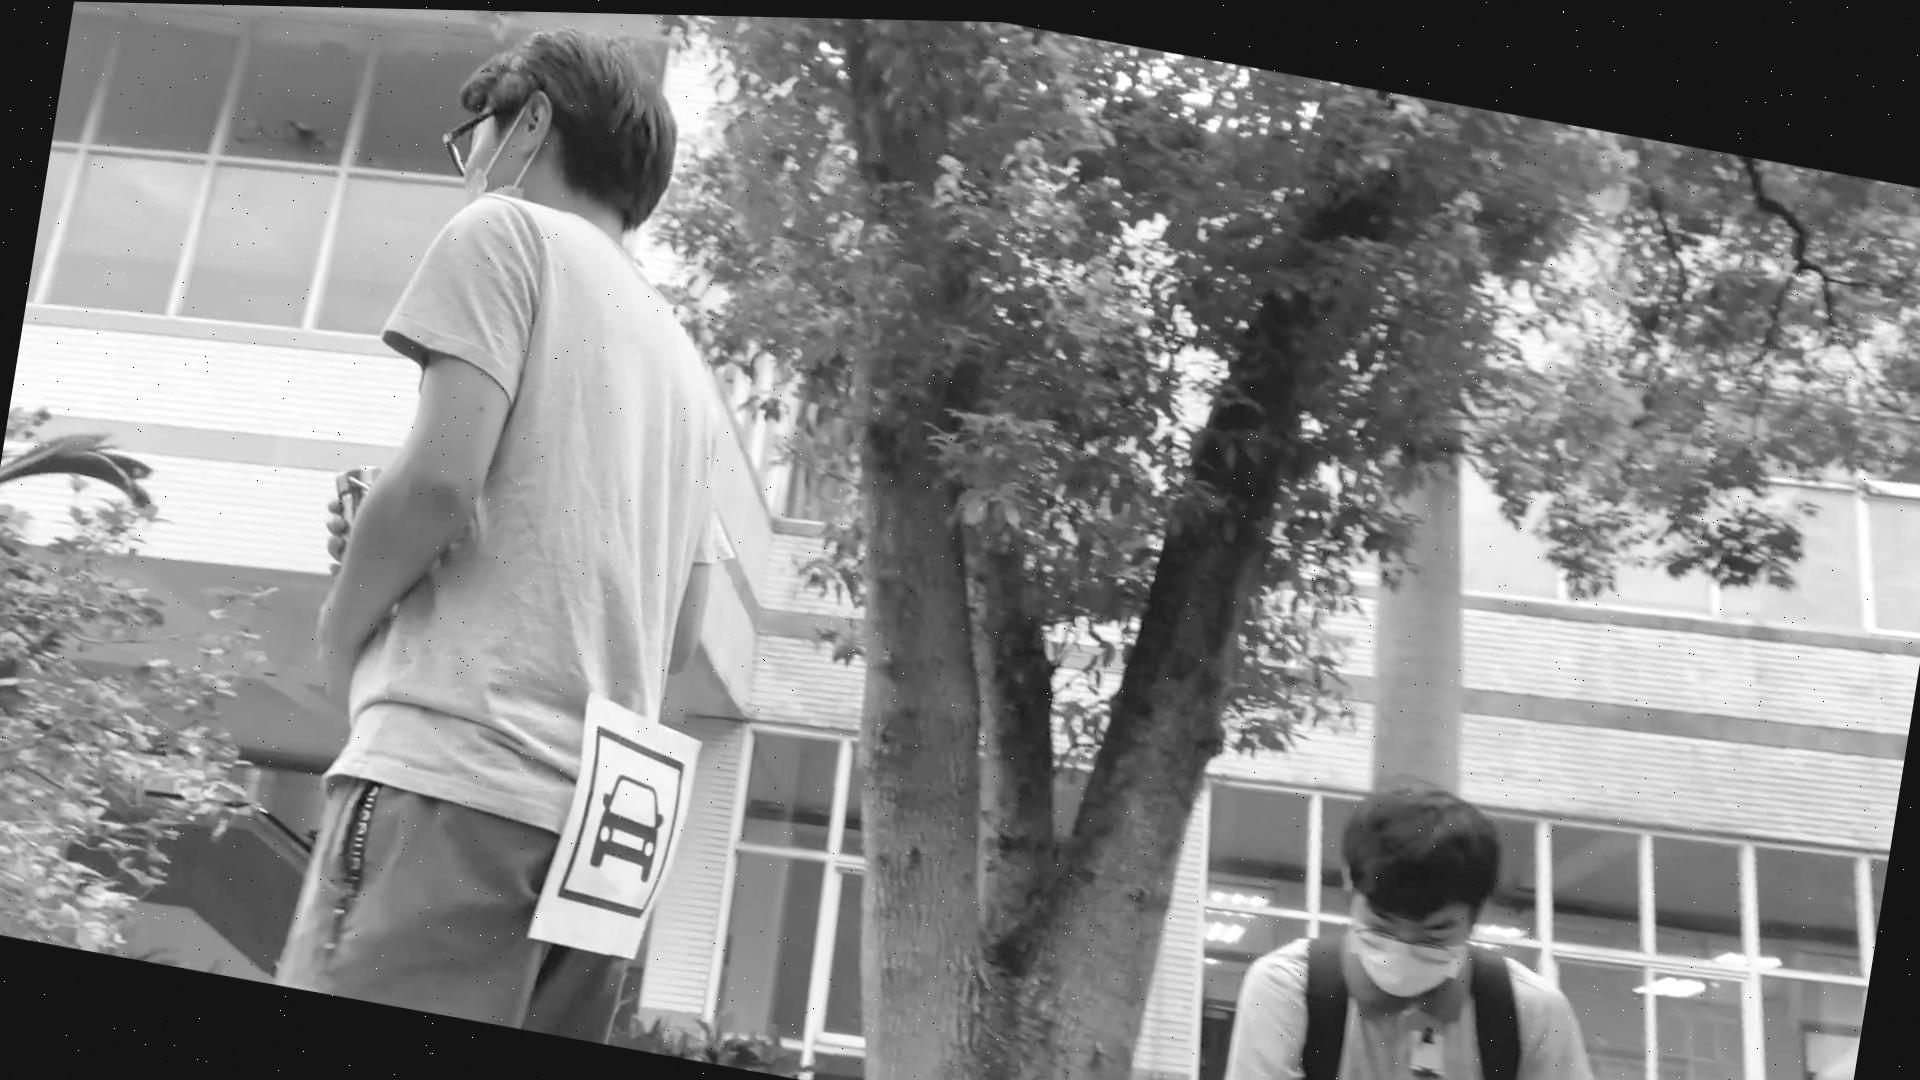car_img: (554, 717, 690, 920)
